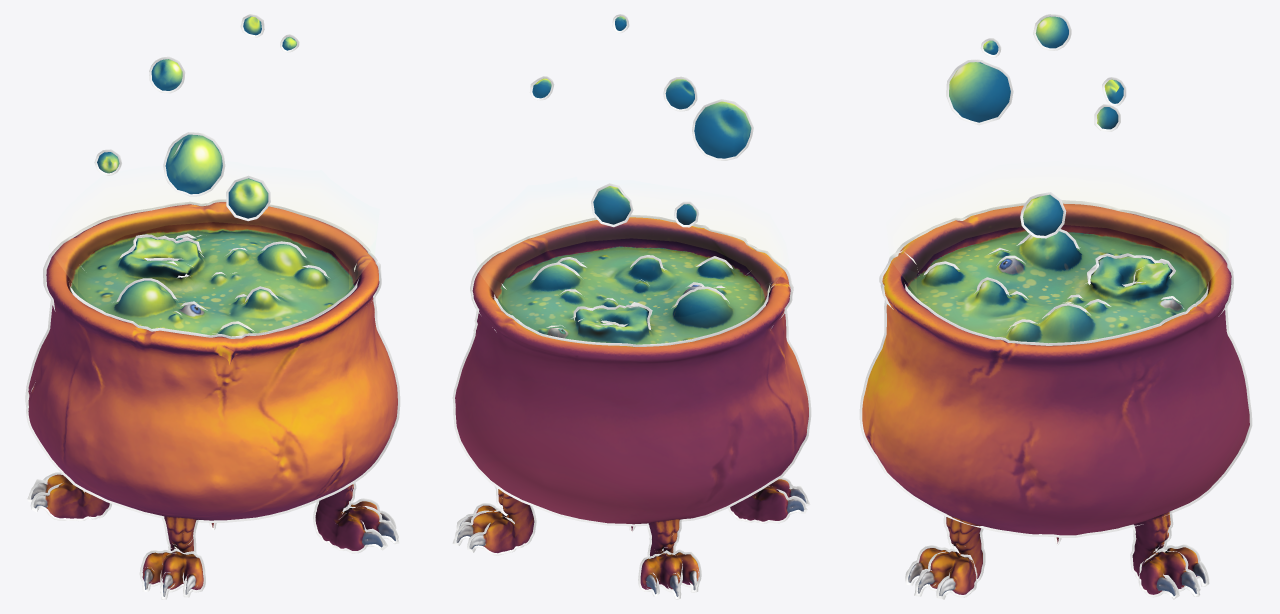
The model's file is cauldron-backup.glb.
The picture shows the model from 3 angles, left to right: view 1: azimuth 30°, elevation 25°; view 2: azimuth 150°, elevation 25°; view 3: azimuth 270°, elevation 25°; orthographic projection. The views are drawn at different scales.
Visible parts, largest first — view 1: Cauldron, Outline, Bubbles; view 2: Cauldron, Outline, Bubbles; view 3: Cauldron, Outline, Bubbles.
Part boxes in pixels (left/top/right/bottom): Cauldron: left=28, top=202, right=397, bottom=596; Outline: left=25, top=14, right=400, bottom=599; Bubbles: left=97, top=16, right=296, bottom=218; Cauldron: left=455, top=217, right=808, bottom=596; Outline: left=452, top=14, right=811, bottom=599; Bubbles: left=532, top=16, right=751, bottom=224; Cauldron: left=862, top=203, right=1249, bottom=595; Outline: left=859, top=14, right=1252, bottom=599; Bubbles: left=949, top=16, right=1123, bottom=235.
Size of the model in its own units: 1.4 by 1.99 by 1.41.
4 materials, 3 textured.
